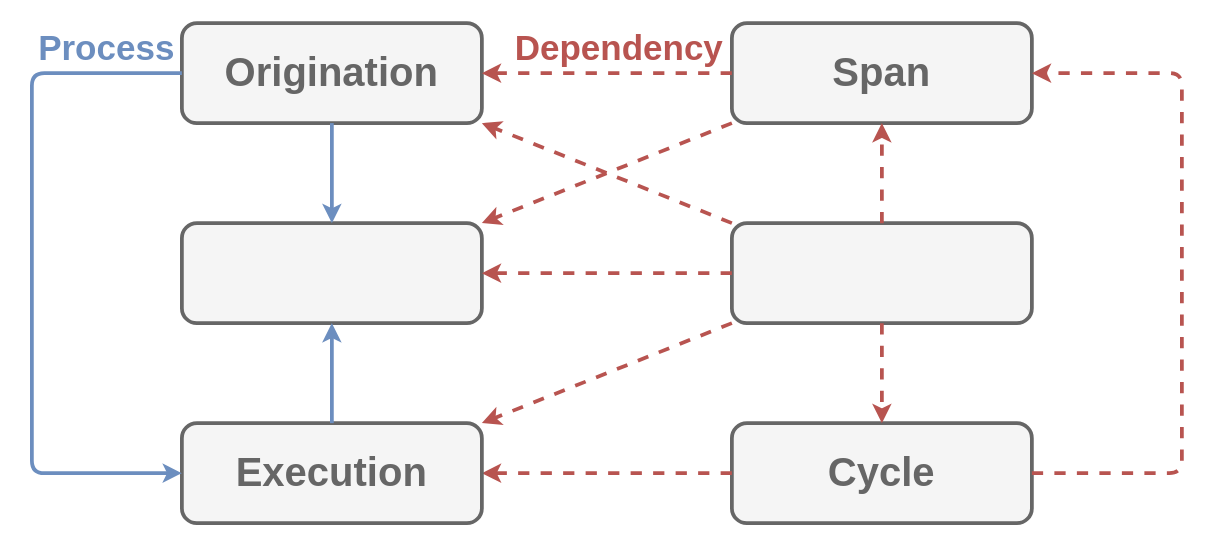
This 1215x546 diagram has some shape labels left out. The shapes that lost their labels are listed below. From the top down, each one's centre as x and y in pixels, then its label:
At (x=331, y=272): "Termination".
At (x=881, y=272): "Service".
